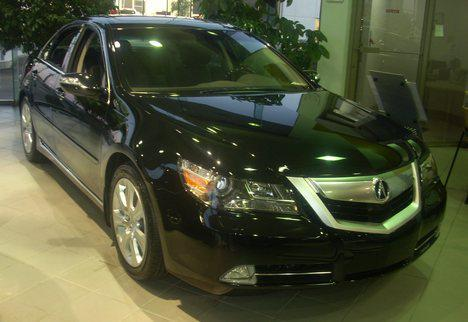Car: (14, 4, 461, 307)
